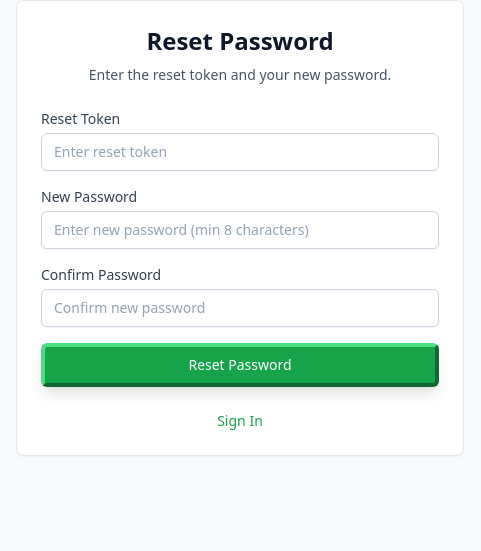
Scenario: ResetPasswordPage › should show error when passwords do not match
This screenshot has width=481, height=551.
Type "some-token" into the field labelled "Reset Token" at point(240, 152), box [41, 133, 439, 171]
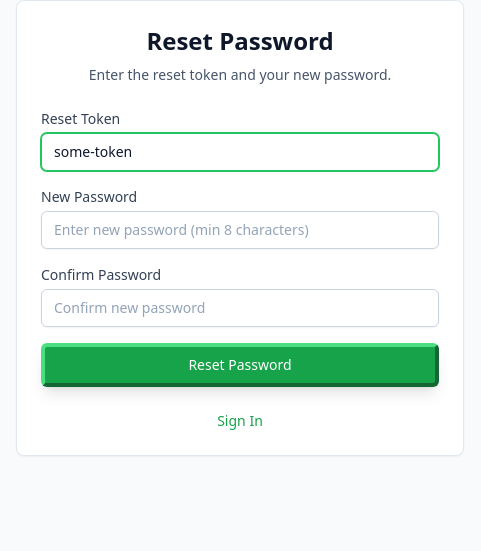
Type "NewPassword123!" into the password field labelled "New Password" at point(240, 230), box [41, 211, 439, 249]
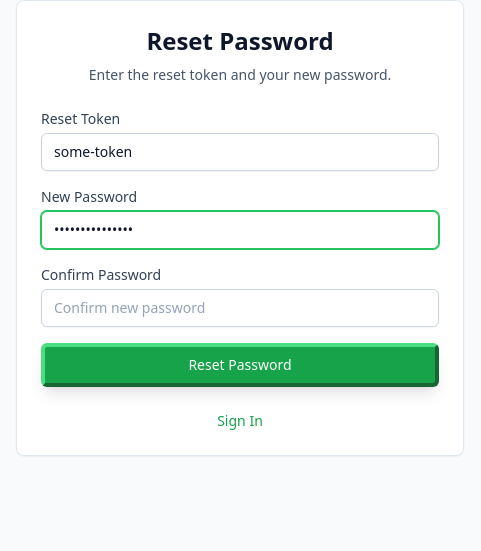
Type "DifferentPassword!" into the password field labelled "Confirm Password" at point(240, 308), box [41, 289, 439, 327]
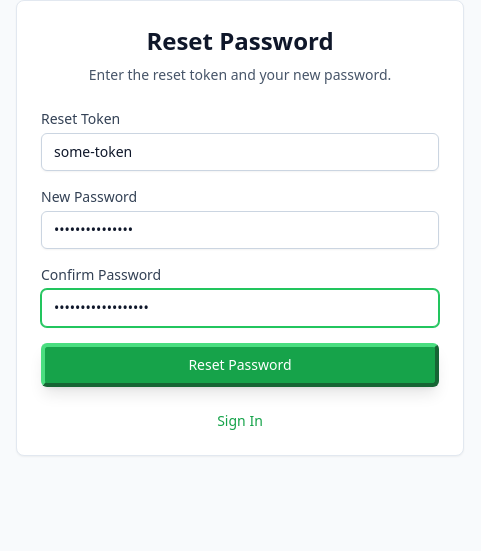
Click the button "Reset Password" at point(240, 365), box [41, 343, 439, 387]
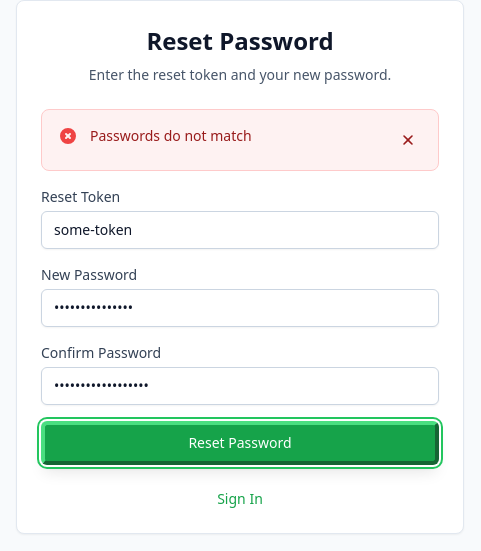
expect the message reads "Passwords do not match": met, box [90, 126, 252, 145]
